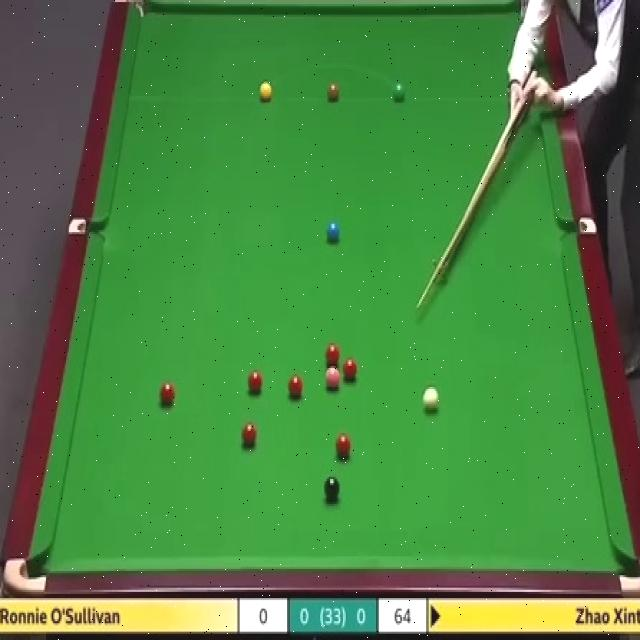black-ball: (324, 476, 341, 505)
blue-ball: (326, 221, 342, 243)
brown-ball: (326, 81, 340, 102)
green-ball: (393, 84, 406, 101)
pink-ball: (324, 366, 339, 389)
red-ball: (159, 379, 177, 408), (241, 423, 259, 448), (248, 372, 264, 397), (336, 435, 352, 460), (288, 376, 304, 399), (343, 359, 357, 383), (325, 343, 340, 363)
white-ball: (422, 386, 440, 412)
yellow-ball: (258, 82, 272, 103)
